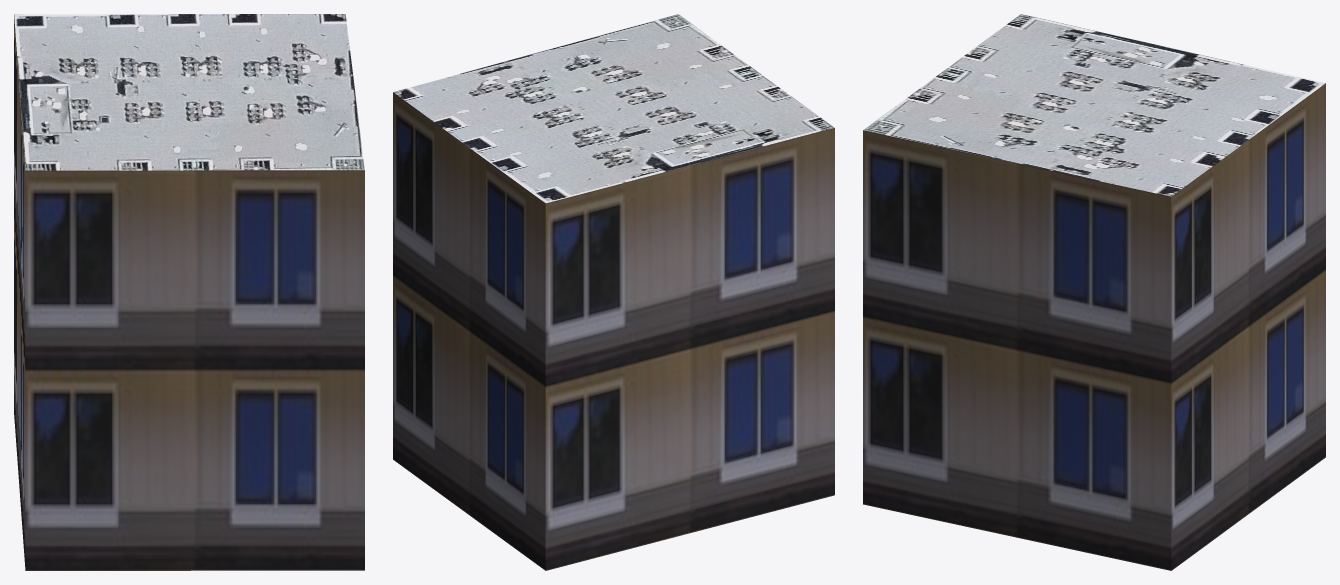
The model's file is ResTex__2422.fbx.
The picture shows the model from 3 angles, left to right: view 1: azimuth 30°, elevation 25°; view 2: azimuth 150°, elevation 25°; view 3: azimuth 270°, elevation 25°; orthographic projection. The views are drawn at different scales.
Visible parts, largest first — view 1: CityEngineMaterial_5_m, CityEngineMaterial_2_m; view 2: CityEngineMaterial_5_m, CityEngineMaterial_2_m; view 3: CityEngineMaterial_5_m, CityEngineMaterial_2_m.
Part boxes in pixels (<box>): CityEngineMaterial_5_m: <box>14,15,364,570</box>; CityEngineMaterial_2_m: <box>14,14,364,170</box>; CityEngineMaterial_5_m: <box>393,92,834,570</box>; CityEngineMaterial_2_m: <box>393,14,834,203</box>; CityEngineMaterial_5_m: <box>863,83,1325,570</box>; CityEngineMaterial_2_m: <box>863,14,1325,196</box>.
Size of the model in its own units: 6.29 by 6 by 6.73.
Materials: 2 (2 with a texture image).
